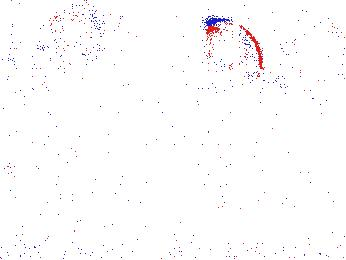moon jellyfish: (203, 19, 262, 114), (295, 9, 346, 103), (1, 1, 57, 66), (46, 9, 103, 65)
